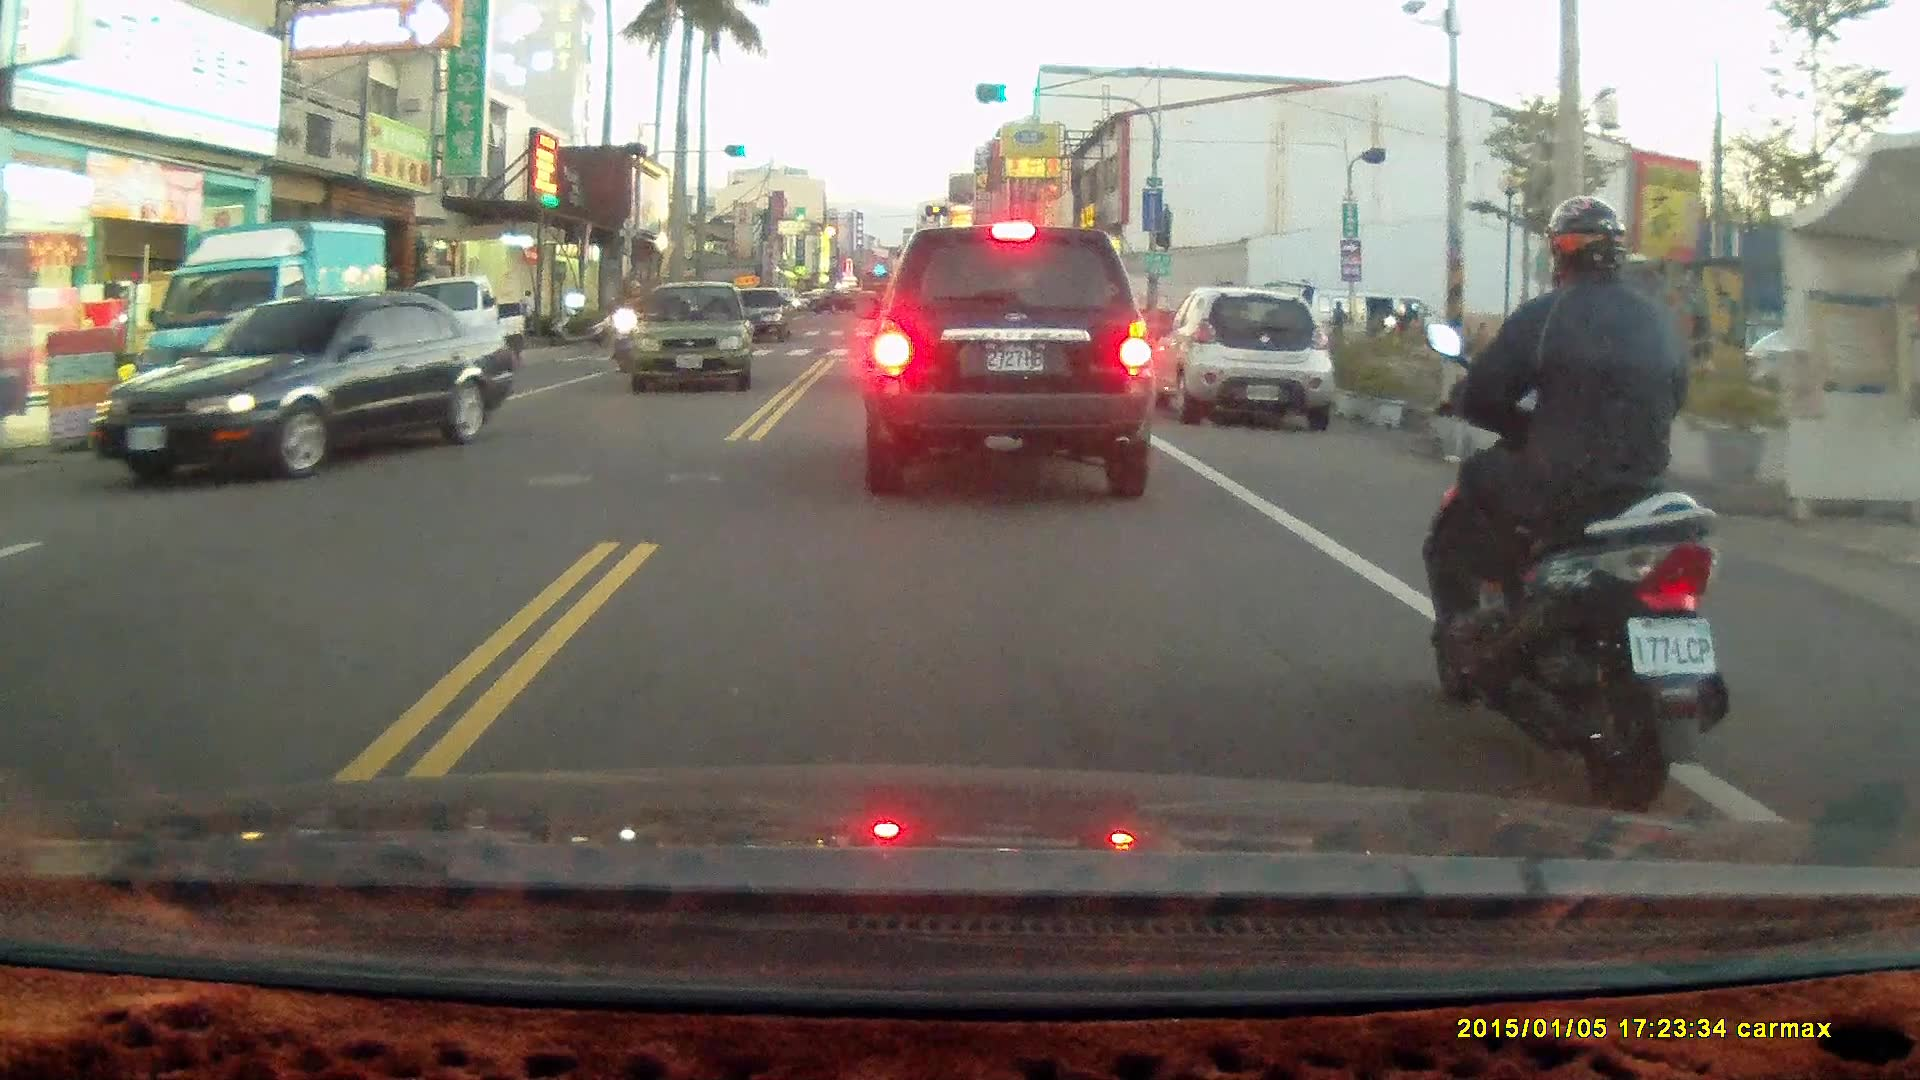rider: (1419, 188, 1729, 814), (604, 278, 651, 373)
vehicle: (90, 292, 514, 485), (860, 224, 1154, 503), (133, 221, 396, 422), (1159, 286, 1335, 436), (626, 278, 756, 398), (400, 273, 529, 383)
